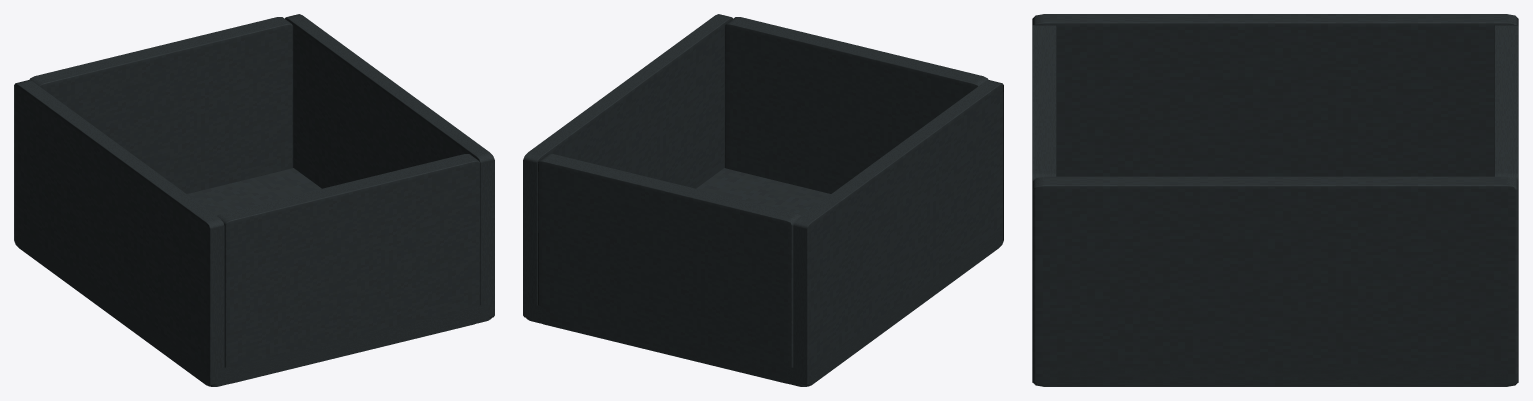
Rendered from bottle-cradle.glb.
3 renders of one model, left to right at view 1: azimuth 30°, elevation 25°; view 2: azimuth 150°, elevation 25°; view 3: azimuth 270°, elevation 25°, orthographic. The views are drawn at different scales.
Parts seen in each view (by area): view 1: edge (×2), side (×2), bottom; view 2: edge (×2), side (×2), bottom; view 3: side (×2), bottom, edge (×2).
Boxes of the visible parts, x1,y1,x2,y2 form: edge (×2): (29, 17, 480, 383); side (×2): (14, 14, 494, 386); bottom: (18, 168, 491, 386); edge (×2): (537, 17, 988, 383); side (×2): (523, 14, 1003, 386); bottom: (526, 168, 999, 386); side (×2): (1032, 14, 1518, 386); bottom: (1032, 365, 1518, 386); edge (×2): (1032, 25, 1518, 181).
Bounding box in the file's own units: 0.2 × 0.11 × 0.24.
Materials: 1 (1 with a texture image).
